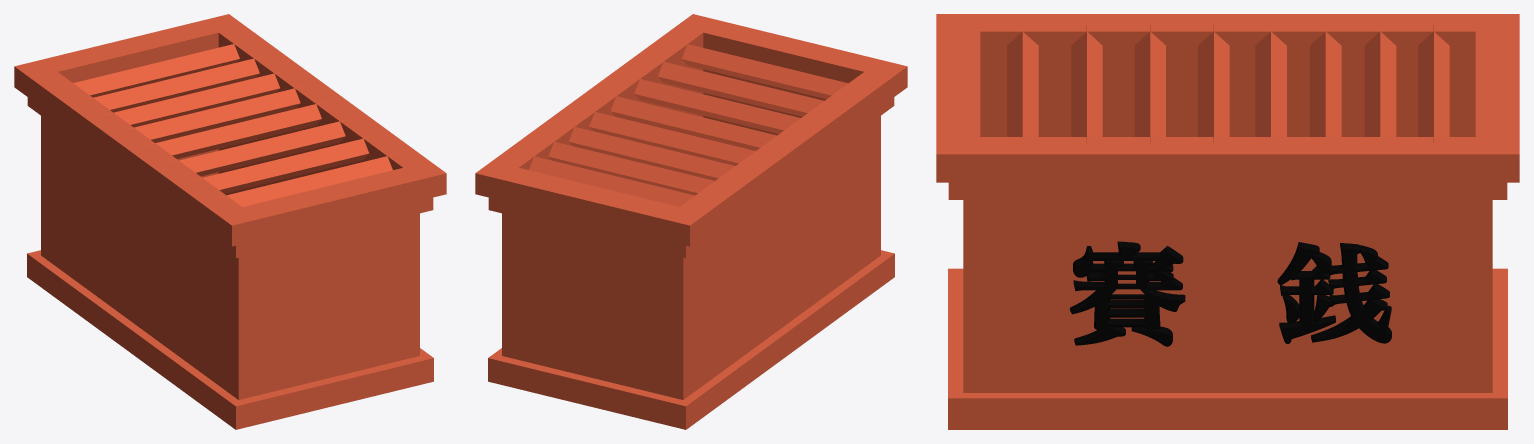
Rendered from saisen4.glb.
3 renders of one model, left to right at view 1: azimuth 30°, elevation 25°; view 2: azimuth 150°, elevation 25°; view 3: azimuth 270°, elevation 25°, orthographic. The views are drawn at different scales.
Parts seen in each view (by area): view 1: Cube; view 2: Cube; view 3: Cube.
Part boxes in pixels (bbox=[...]): Cube: bbox=[14, 14, 446, 429]; Cube: bbox=[475, 14, 907, 429]; Cube: bbox=[936, 14, 1519, 429].
Bounding box in the file's own units: 2.38 × 2.22 × 4.18.
